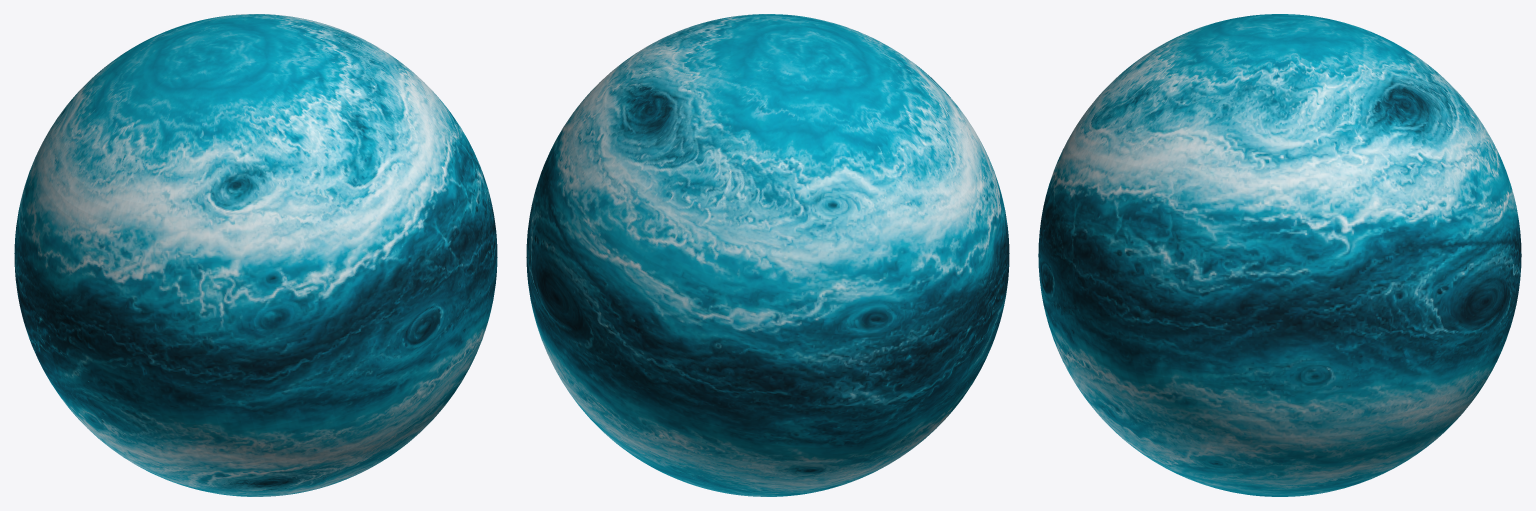
The model's file is boreal.obj.
3 views of the same model, side by side, from view 1: azimuth 30°, elevation 25°; view 2: azimuth 150°, elevation 25°; view 3: azimuth 270°, elevation 25° (orthographic).
Parts seen in each view (by area): view 1: Boreal; view 2: Boreal; view 3: Boreal.
Boxes of the visible parts, left/top/right/bottom form: Boreal: left=14, top=14, right=497, bottom=496; Boreal: left=526, top=14, right=1009, bottom=496; Boreal: left=1038, top=14, right=1521, bottom=496.
Bounding box in the file's own units: 2 × 2 × 2.
Materials: 1 (1 with a texture image).
